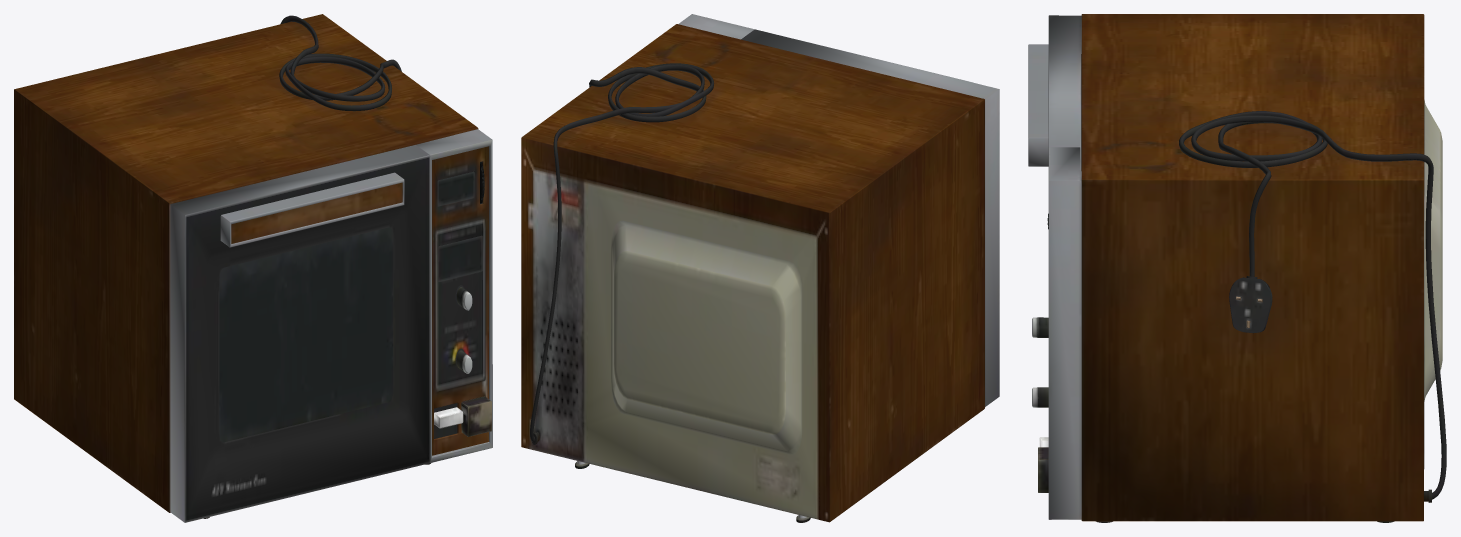
File: ph-vintage-microwave.glb
3 views of the same model, side by side, from view 1: azimuth 30°, elevation 25°; view 2: azimuth 150°, elevation 25°; view 3: azimuth 270°, elevation 25° (orthographic). The views are drawn at different scales.
Visible parts, largest first — view 1: vintage_microwave; view 2: vintage_microwave; view 3: vintage_microwave.
Boxes of the visible parts, bbox=[...] form: vintage_microwave: bbox=[14, 14, 492, 522]; vintage_microwave: bbox=[521, 14, 999, 522]; vintage_microwave: bbox=[1028, 14, 1446, 522].
Bounding box in the file's own units: 0.9999 × 0.9999 × 1.
Materials: 2 (2 with a texture image).
